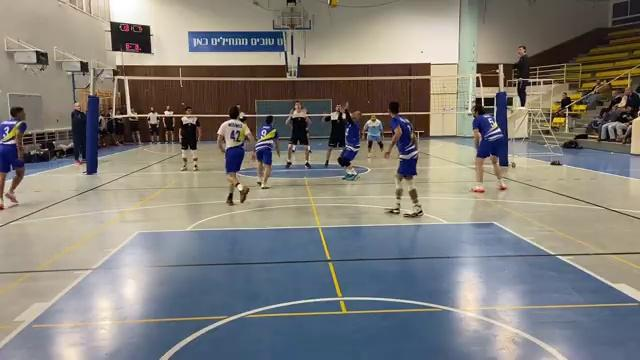ball: (326, 0, 341, 10)
